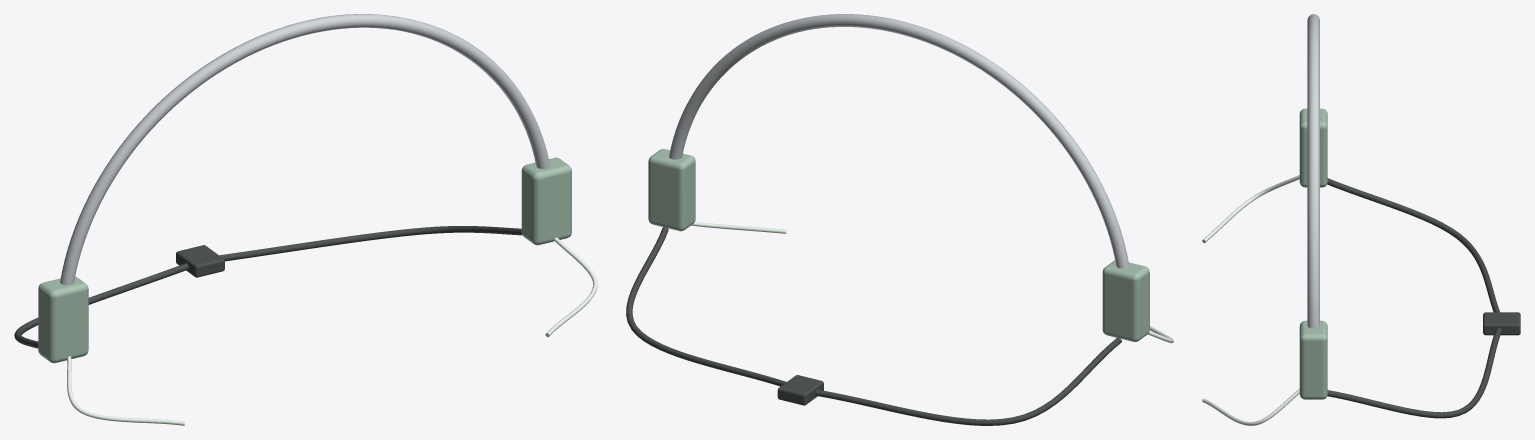
File: hearing-aid-and-audiology-clinic-probe-microphone-head-5d89b7c9.glb
3 views of the same model, side by side, from view 1: azimuth 30°, elevation 25°; view 2: azimuth 150°, elevation 25°; view 3: azimuth 270°, elevation 25° (orthographic). The views are drawn at different scales.
Visible parts, largest first — view 1: probe-microphone-headset; view 2: probe-microphone-headset; view 3: probe-microphone-headset.
Part boxes in pixels (<box>): probe-microphone-headset: <box>14,14,597,425</box>; probe-microphone-headset: <box>626,14,1173,425</box>; probe-microphone-headset: <box>1202,14,1520,425</box>.
Bounding box in the file's own units: 0.1732 × 0.1023 × 0.1015.
